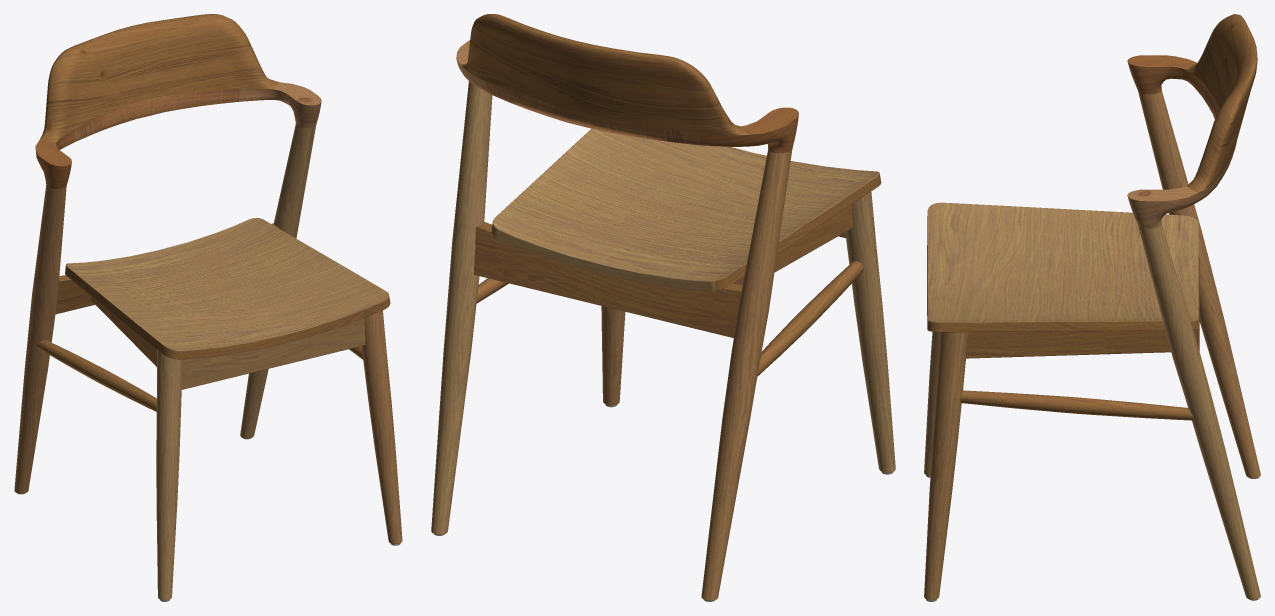
File: B07B83KVGK.glb
The picture shows the model from 3 angles, left to right: view 1: azimuth 30°, elevation 25°; view 2: azimuth 150°, elevation 25°; view 3: azimuth 270°, elevation 25°; orthographic projection. The views are drawn at different scales.
Parts seen in each view (by area): view 1: RootNode; view 2: RootNode; view 3: RootNode.
Part boxes in pixels (x1,y1,x2,y2): RootNode: (14,14,402,601); RootNode: (431,14,895,601); RootNode: (924,14,1260,601).
Bounding box in the file's own units: 0.5121 × 0.7915 × 0.4993.
1 material, 1 textured.
